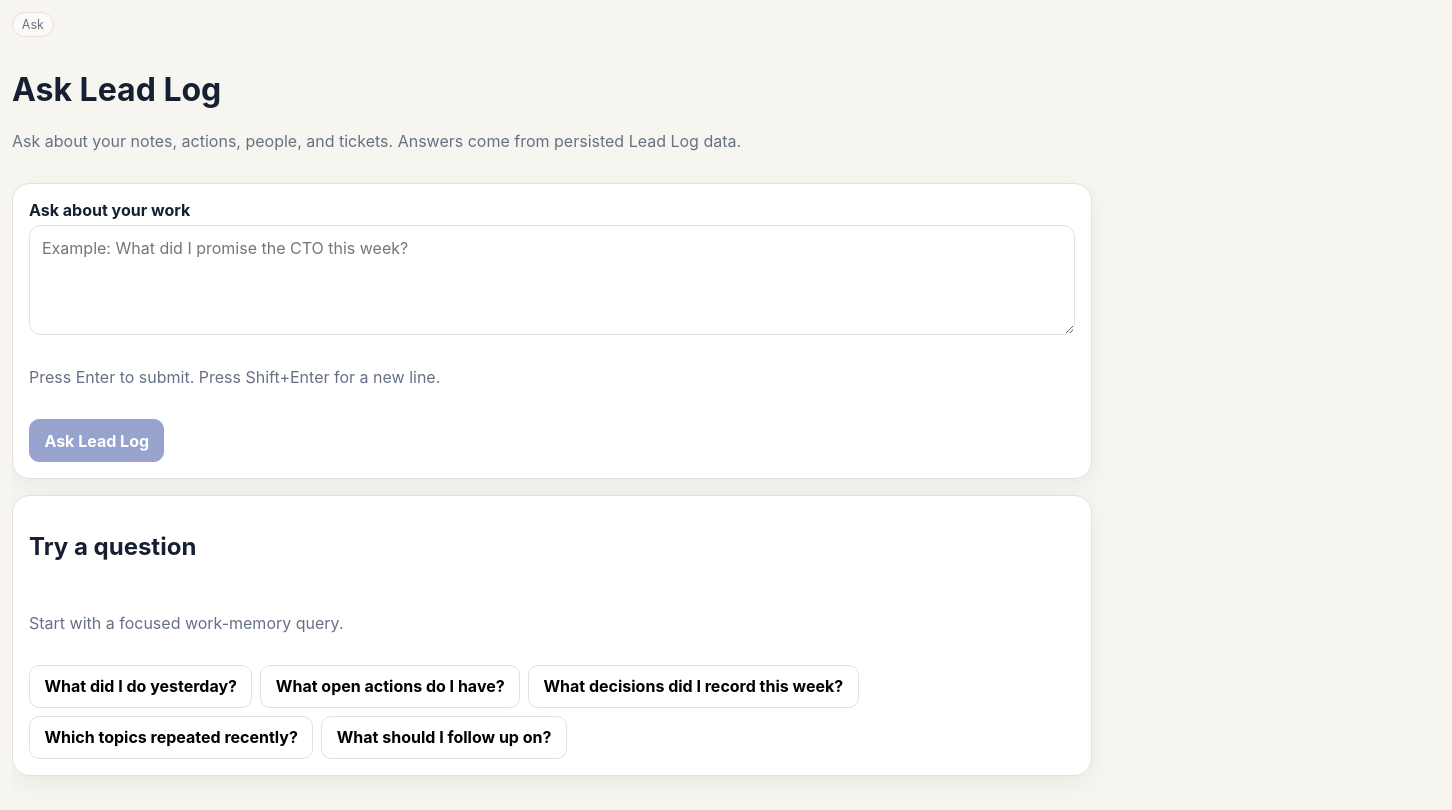
AskPage › renders grounded sources with null optional fields as readable evidence
This screenshot has width=1452, height=810.
In the text box labelled "Ask about your work": point(552, 280) [29,225,1075,335], type "Question"
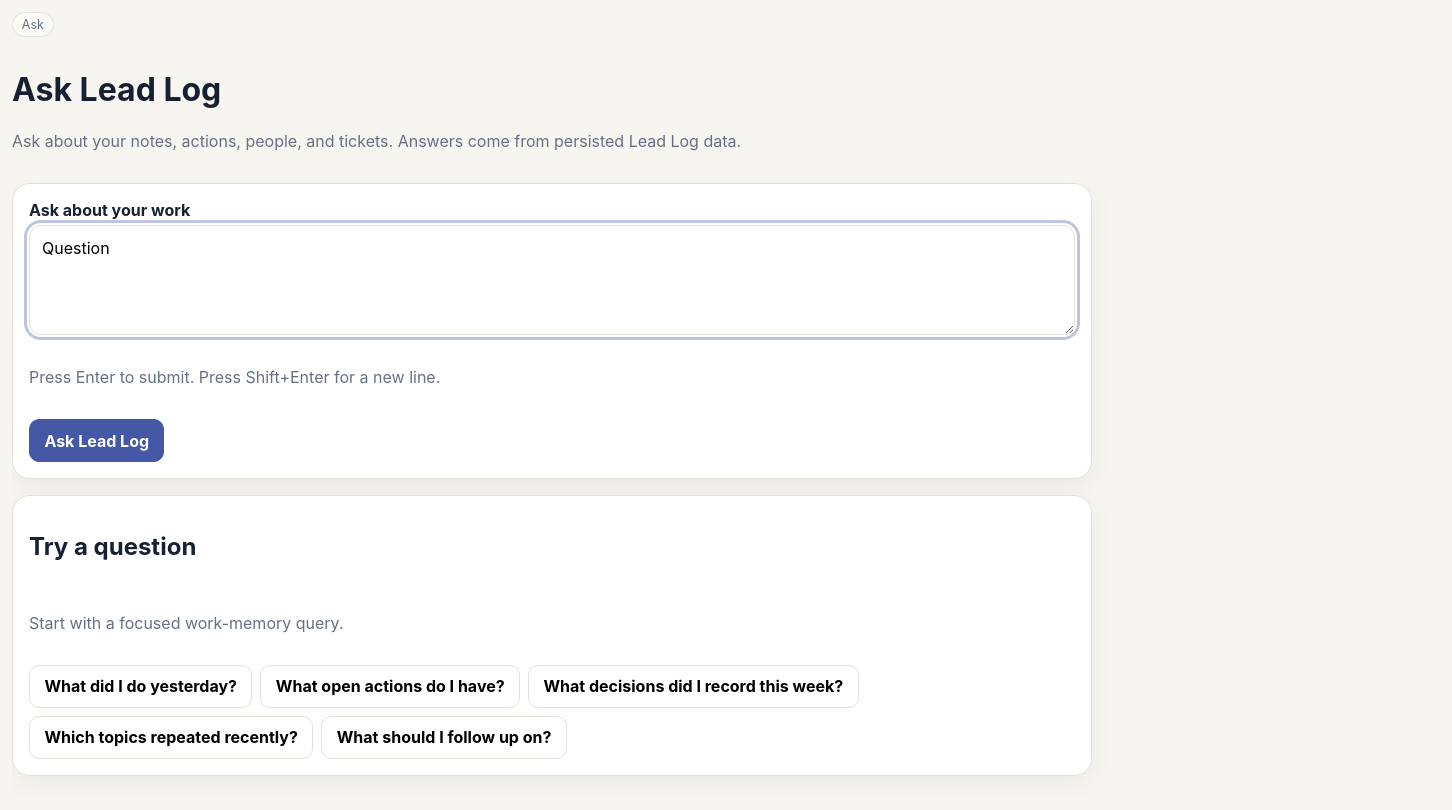
Click the button "Ask Lead Log": point(97, 441) [29,419,164,462]
(page scrolled)
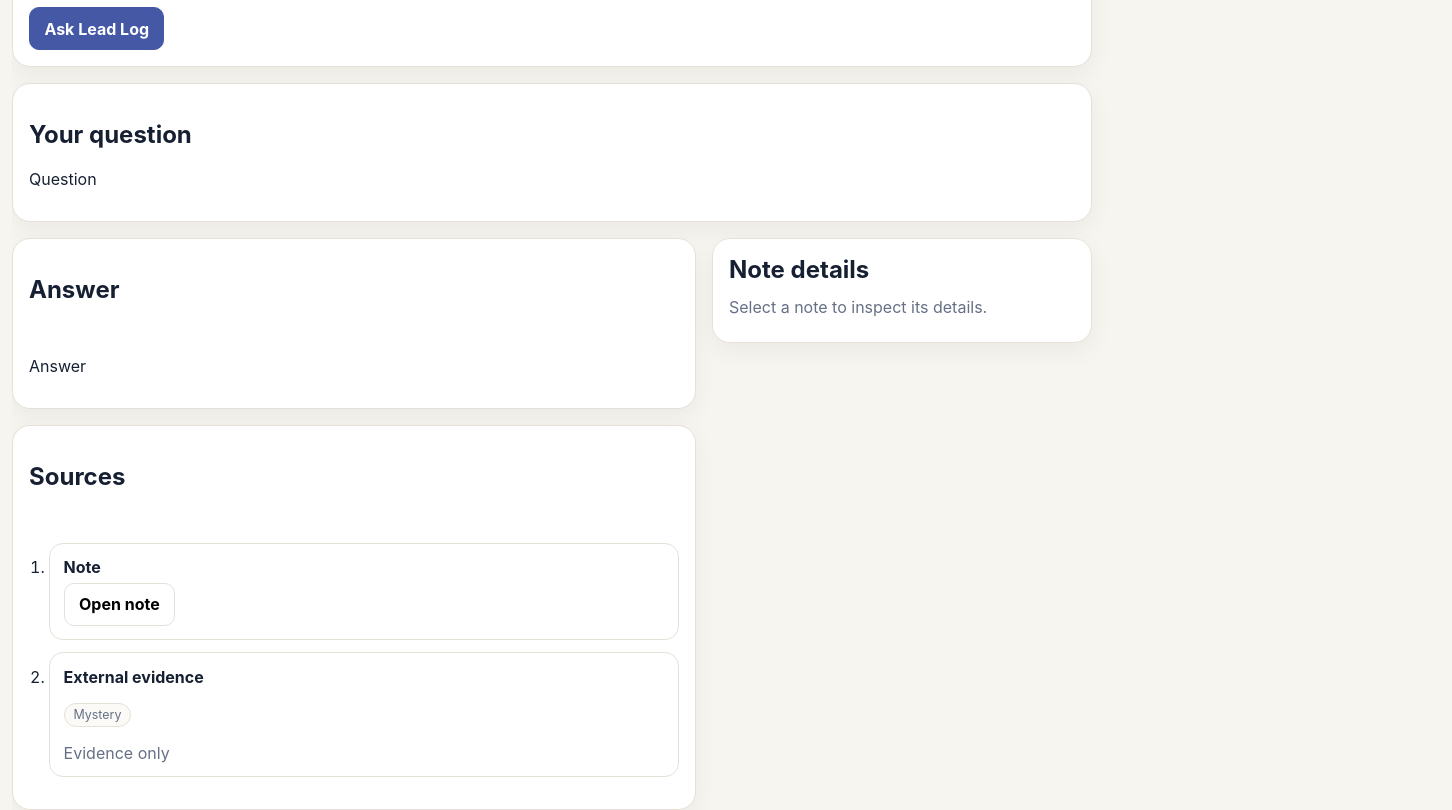
Result: the heading "Sources" is shown at [29,462,125,491]
Result: the button "Open note" is shown at [64,583,175,626]
Result: the text "External evidence" is shown at [64,667,204,687]
